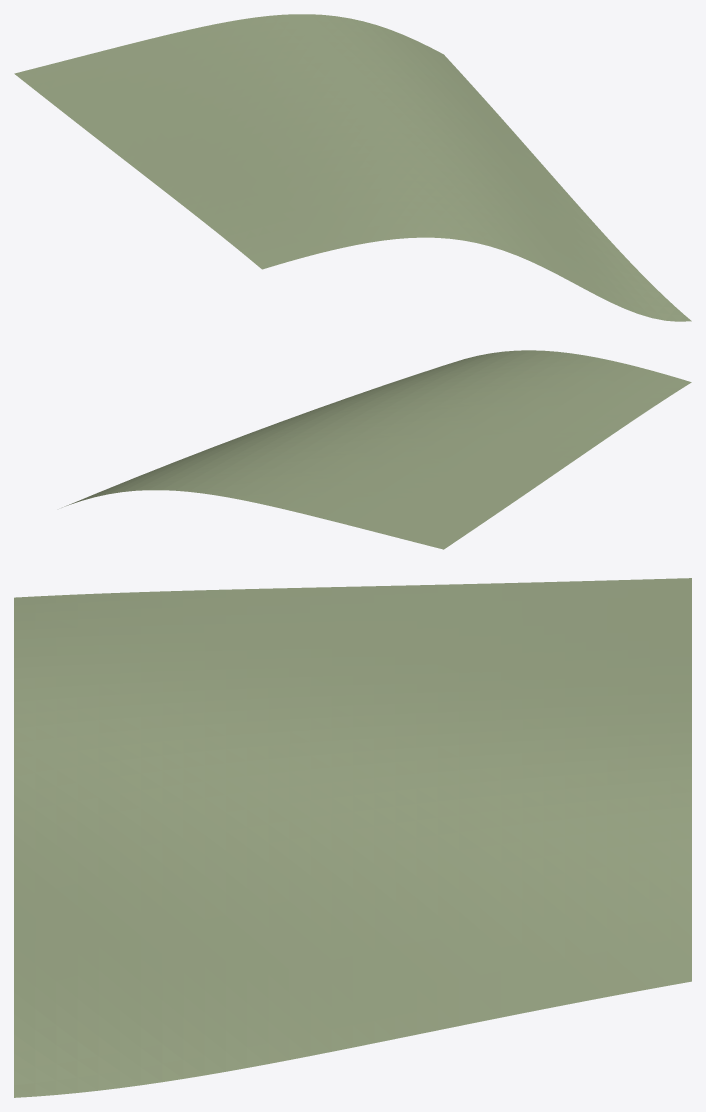
File: expanse-13-12.glb
3 views of the same model, one above another, from view 1: azimuth 30°, elevation 25°; view 2: azimuth 150°, elevation 25°; view 3: azimuth 270°, elevation 25° (orthographic). The views are drawn at different scales.
Parts seen in each view (by area): view 1: expanse-13-12; view 2: expanse-13-12; view 3: expanse-13-12.
Part boxes in pixels (box(x1,y1,x2,y2)): expanse-13-12: box(14, 14, 691, 321); expanse-13-12: box(62, 350, 691, 549); expanse-13-12: box(14, 578, 691, 1097).
Bounding box in the file's own units: 256 × 98.03 × 256.
